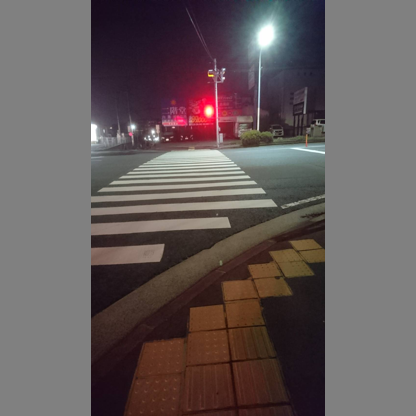brailleblock: (183, 361, 237, 411), (230, 358, 278, 407), (135, 365, 180, 414), (187, 331, 231, 362), (136, 342, 182, 370), (186, 304, 229, 331), (227, 325, 264, 355), (224, 297, 257, 329), (251, 265, 286, 295), (273, 250, 309, 275), (222, 280, 259, 299), (294, 240, 324, 261)
crosswalk: (108, 173, 247, 219), (91, 191, 237, 233), (142, 161, 237, 200)
signal: (201, 99, 215, 121)
